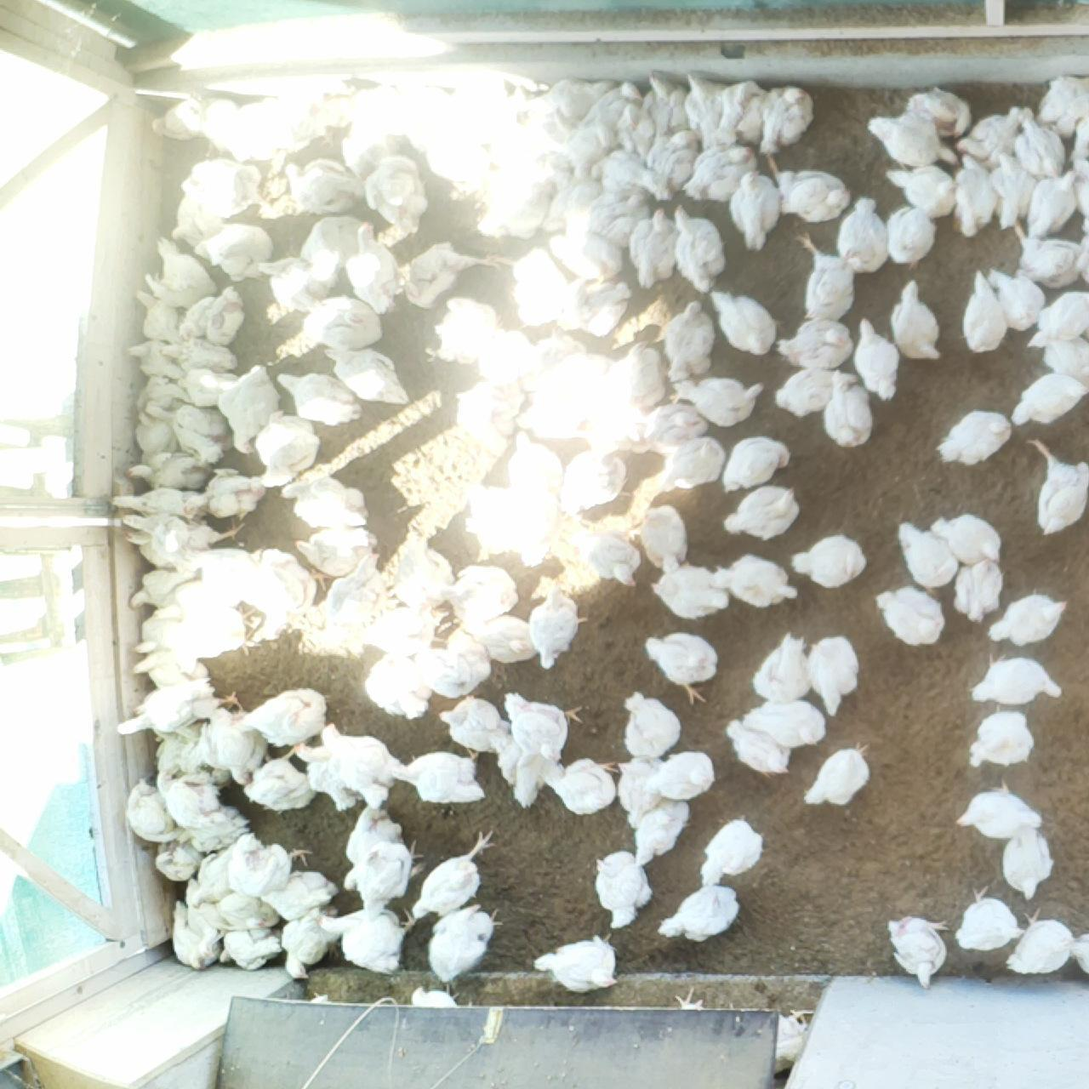chicken: (237, 546, 331, 637), (117, 675, 246, 739), (409, 829, 499, 918), (316, 904, 419, 977), (318, 721, 400, 807), (402, 239, 500, 310), (122, 511, 244, 568), (341, 835, 429, 914), (319, 550, 389, 648), (1024, 434, 1089, 537), (488, 244, 569, 326), (140, 394, 230, 467), (216, 361, 283, 459), (424, 902, 503, 984), (501, 688, 587, 763), (643, 630, 723, 710), (161, 602, 259, 666), (862, 105, 961, 168), (383, 747, 488, 806), (763, 154, 850, 224), (237, 690, 327, 757), (195, 707, 268, 789), (344, 220, 407, 315), (289, 520, 376, 587), (664, 198, 725, 293), (794, 229, 855, 324), (561, 442, 635, 520), (951, 882, 1029, 955), (532, 932, 623, 994), (646, 557, 734, 621), (884, 910, 951, 994), (1008, 218, 1086, 290), (1004, 905, 1082, 977), (529, 581, 592, 670), (322, 347, 414, 407), (775, 310, 856, 378), (965, 651, 1065, 706), (241, 745, 317, 817), (181, 161, 273, 220), (799, 739, 874, 811), (441, 563, 524, 628), (255, 408, 323, 487), (276, 370, 368, 428), (232, 830, 314, 895), (430, 293, 503, 366), (704, 284, 778, 356), (954, 780, 1042, 840), (592, 846, 654, 931), (418, 630, 495, 698), (697, 812, 765, 889), (365, 153, 427, 237), (767, 363, 858, 420), (463, 479, 533, 553), (279, 475, 371, 531), (570, 525, 649, 590), (145, 238, 215, 311), (390, 531, 455, 609), (279, 904, 343, 983), (150, 577, 245, 630), (541, 228, 627, 286), (713, 552, 799, 610), (284, 156, 367, 216), (656, 884, 739, 944), (362, 652, 433, 722), (985, 591, 1069, 650), (357, 604, 442, 662), (179, 545, 261, 605), (540, 757, 623, 816), (670, 374, 766, 425), (194, 220, 274, 281), (805, 634, 863, 718), (290, 741, 359, 811), (454, 383, 522, 454), (438, 691, 510, 758), (726, 166, 782, 252), (660, 295, 716, 381), (300, 294, 384, 351), (184, 465, 268, 522), (751, 629, 814, 705), (505, 428, 564, 509), (528, 74, 609, 133), (492, 731, 552, 810), (786, 534, 870, 590), (934, 408, 1012, 468), (868, 588, 947, 647), (617, 690, 685, 758), (740, 696, 827, 749), (300, 214, 361, 289), (555, 274, 631, 334), (610, 753, 672, 826), (626, 206, 679, 291), (681, 142, 756, 202), (898, 521, 959, 594), (999, 822, 1056, 900), (850, 315, 901, 402), (834, 195, 890, 274), (819, 370, 875, 449), (541, 165, 604, 235), (656, 432, 727, 494), (965, 708, 1036, 770), (475, 183, 553, 239), (642, 125, 698, 203), (929, 510, 1003, 569), (343, 802, 408, 869), (1023, 167, 1081, 242), (258, 870, 340, 923), (257, 251, 327, 313), (151, 765, 222, 826), (121, 448, 211, 496), (631, 794, 690, 867), (889, 279, 942, 360), (885, 162, 959, 220), (579, 396, 644, 462), (987, 151, 1038, 235), (755, 84, 817, 153), (1010, 374, 1089, 428), (956, 105, 1027, 165), (258, 94, 334, 150), (509, 486, 560, 569), (606, 338, 668, 406), (962, 268, 1011, 354), (629, 402, 707, 456), (722, 433, 792, 493), (124, 778, 185, 846), (460, 614, 541, 665), (723, 486, 802, 538), (986, 266, 1046, 334), (899, 85, 973, 140), (521, 330, 585, 393), (765, 1002, 816, 1080), (175, 803, 250, 856), (398, 79, 452, 152), (583, 188, 653, 244), (151, 97, 215, 158), (1023, 288, 1089, 347), (472, 328, 540, 385), (169, 898, 222, 971), (343, 114, 402, 179), (727, 719, 792, 778), (639, 72, 693, 143), (950, 155, 996, 238), (195, 895, 285, 937), (426, 129, 490, 188), (510, 388, 585, 438), (575, 78, 645, 131), (680, 73, 728, 150), (108, 488, 205, 526), (535, 351, 613, 398), (215, 922, 284, 975), (559, 116, 617, 179), (1034, 74, 1089, 140), (883, 203, 936, 271), (128, 646, 208, 691), (453, 68, 513, 128), (586, 147, 656, 198), (953, 558, 1006, 625), (154, 716, 204, 787), (715, 77, 767, 145), (1012, 116, 1064, 183), (639, 503, 688, 574), (651, 750, 719, 799), (222, 99, 272, 165), (1039, 326, 1089, 390), (124, 611, 184, 664), (349, 84, 407, 137), (183, 845, 232, 906), (487, 121, 553, 166), (163, 338, 239, 376), (135, 288, 183, 348), (133, 375, 186, 429), (162, 197, 222, 244), (174, 368, 239, 410), (126, 335, 181, 383), (513, 149, 573, 193), (132, 408, 179, 463), (205, 284, 248, 343), (122, 526, 180, 568), (616, 101, 654, 162), (128, 576, 196, 610), (196, 98, 237, 153), (152, 831, 197, 879), (176, 295, 222, 341), (409, 982, 463, 1012), (1069, 157, 1089, 233), (1066, 112, 1089, 167), (1069, 927, 1089, 979)
